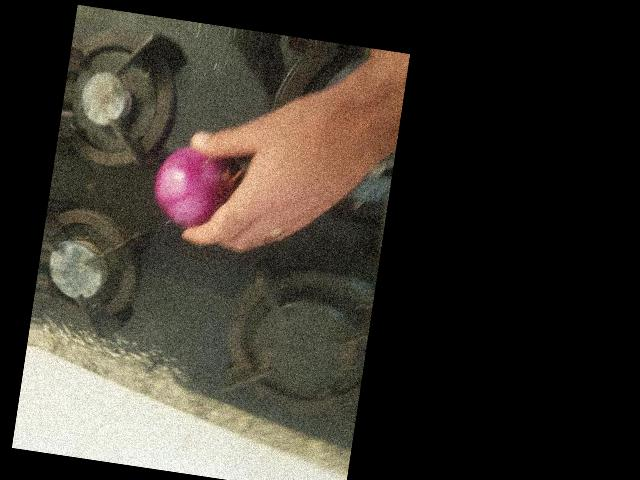onion: (149, 139, 244, 235)
